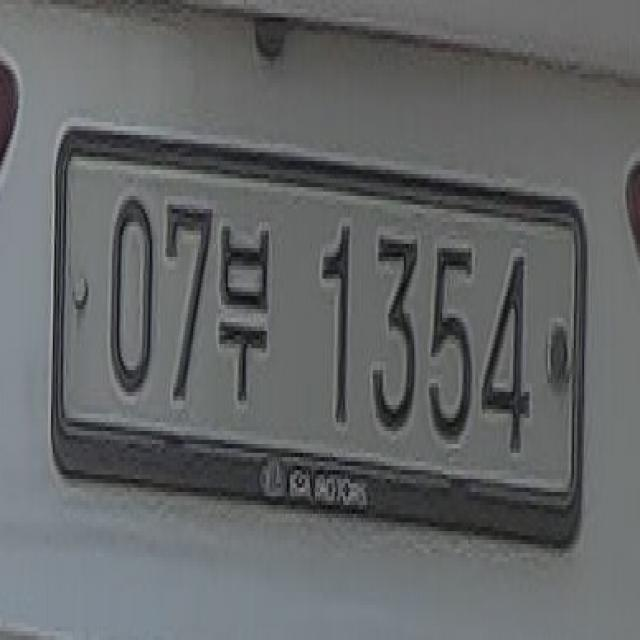0: (108, 182, 156, 410)
1: (318, 202, 358, 442)
3: (368, 222, 420, 448)
4: (478, 246, 534, 472)
5: (428, 232, 476, 464)
7: (162, 198, 215, 421)
bu: (216, 212, 279, 422)
license_plate: (44, 114, 606, 582)
